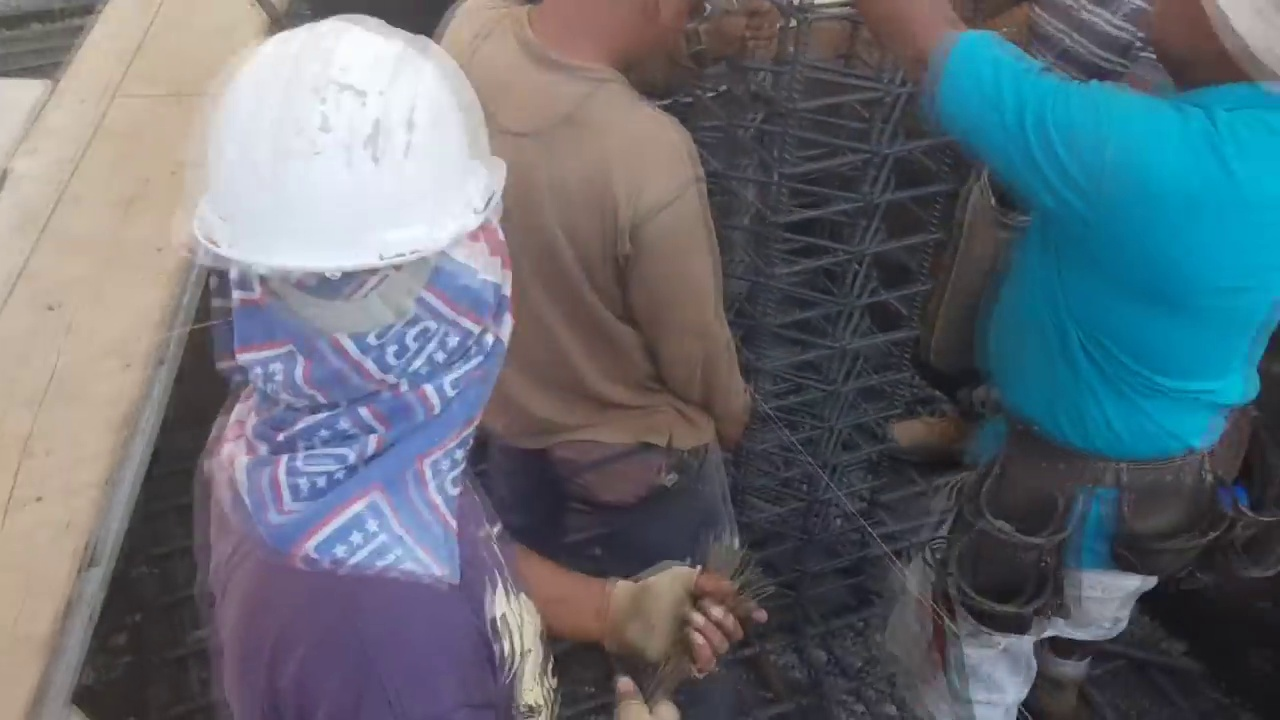helmet: (175, 15, 505, 288)
helmet-on: (174, 14, 500, 430)
person: (869, 0, 1266, 720), (457, 0, 746, 650)
